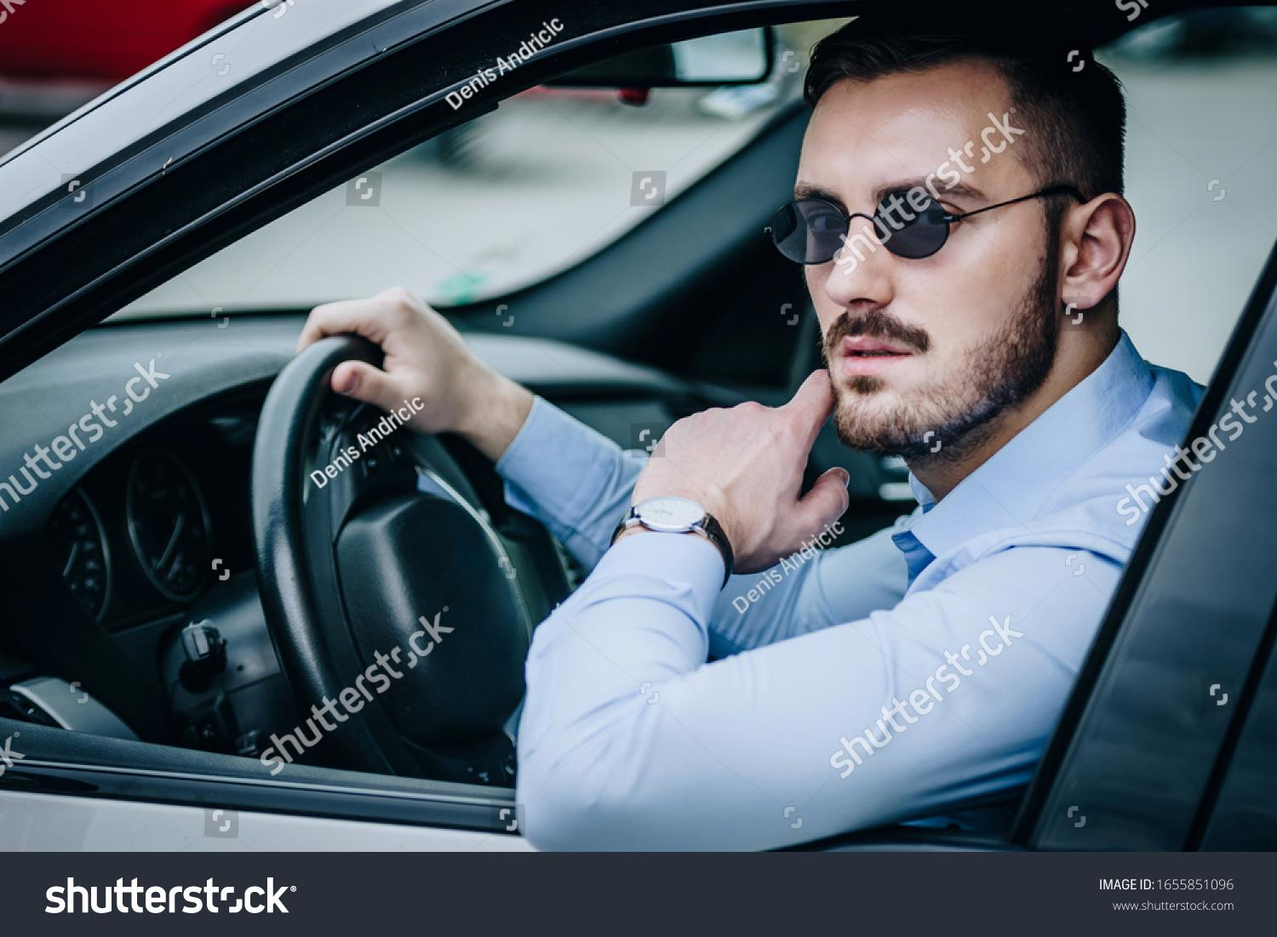sunglasses: (760, 170, 976, 292)
